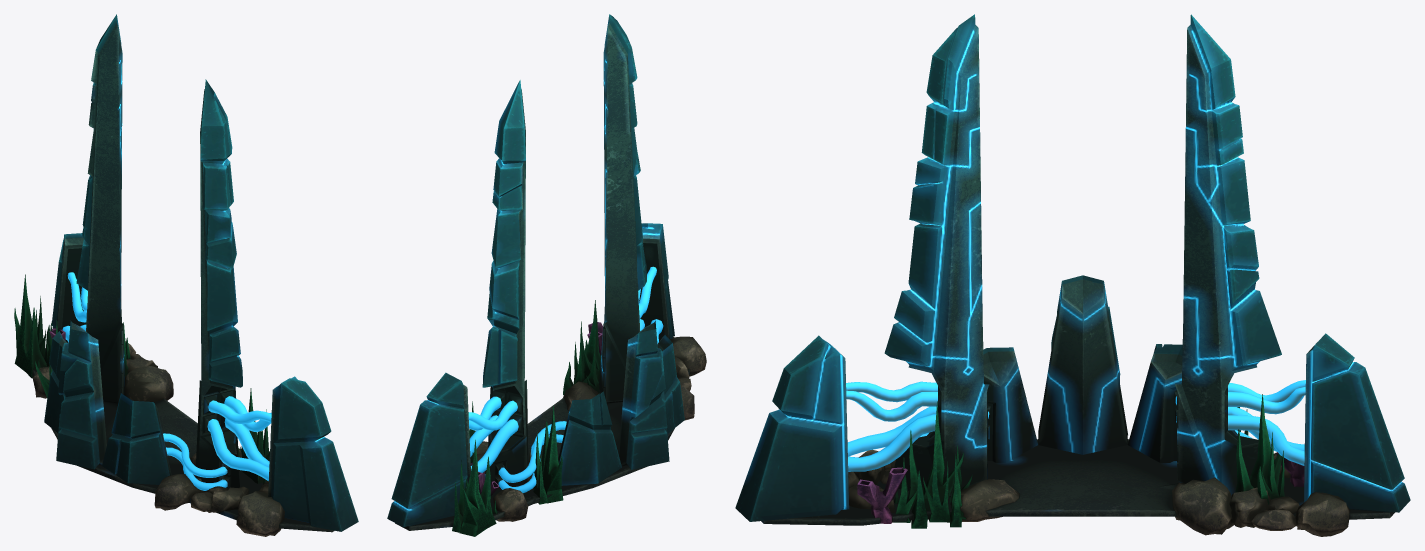
The model's file is FinalBoss.fbx.
3 views of the same model, side by side, from view 1: azimuth 30°, elevation 25°; view 2: azimuth 150°, elevation 25°; view 3: azimuth 270°, elevation 25° (orthographic). The views are drawn at different scales.
Parts seen in each view (by area): view 1: Portal, Foliage; view 2: Portal, Foliage; view 3: Portal, Foliage.
Boxes of the visible parts, bbox=[...] form: Portal: bbox=[33, 14, 358, 532]; Foliage: bbox=[14, 274, 284, 536]; Portal: bbox=[387, 14, 689, 530]; Foliage: bbox=[452, 300, 706, 536]; Portal: bbox=[735, 14, 1410, 525]; Foliage: bbox=[848, 394, 1350, 536].
Bounding box in the file's own units: 39.55 × 89.35 × 112.
Materials: 1 (1 with a texture image).
